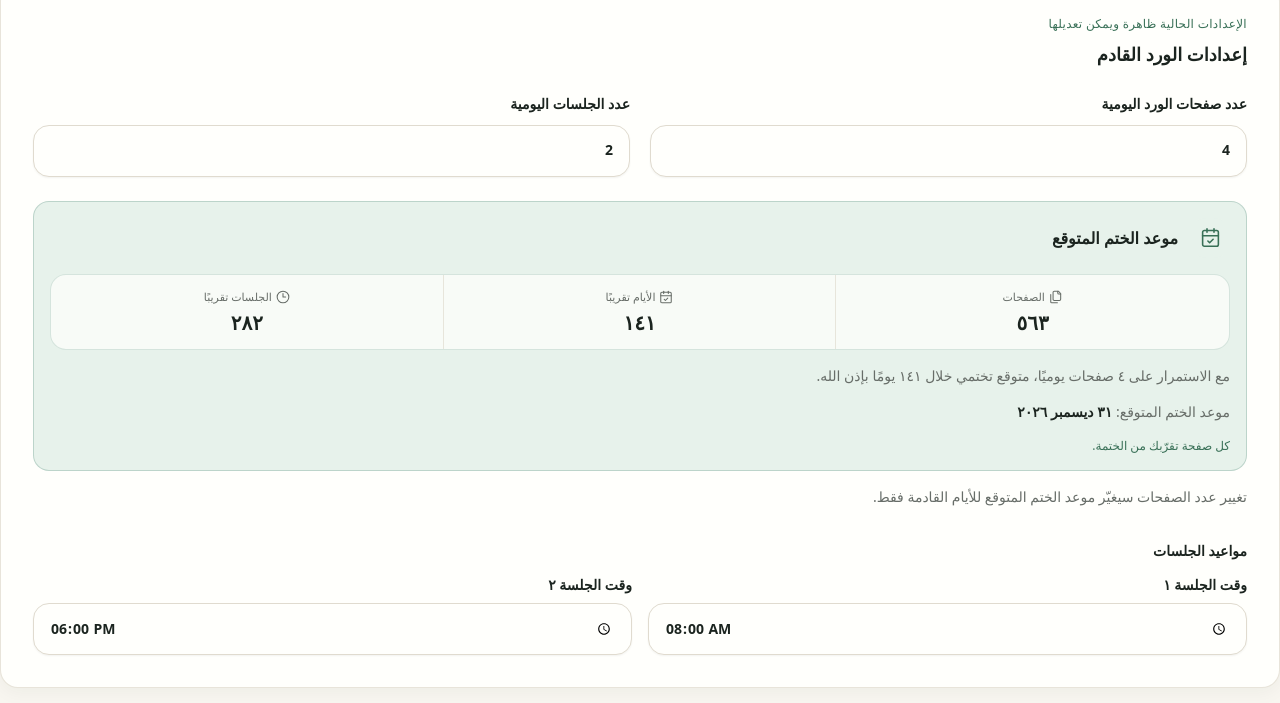
Scenario: PlanSettingsForm › shows a duplicate-time error without silently sorting values
Replace the text in the time field labelled "وقت الجلسة ٢" with "08:00" at (332, 629), box [33,603,632,655]
(page scrolled)
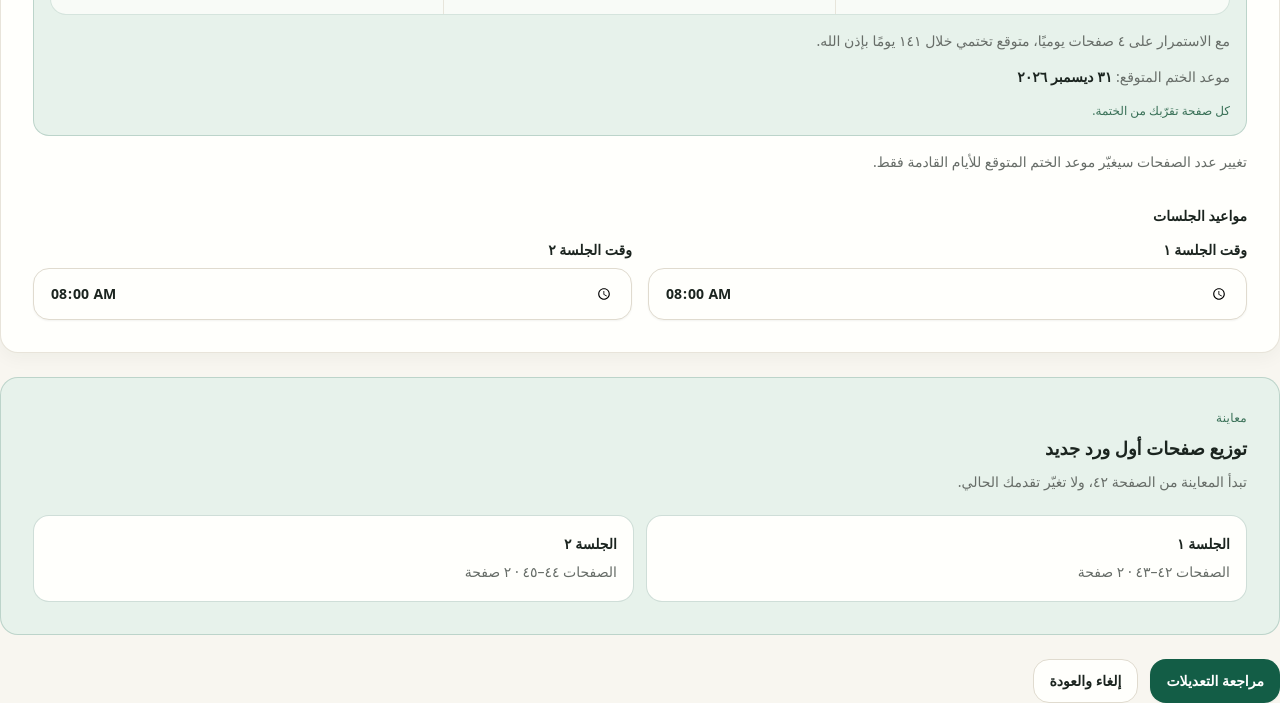
Click the button "مراجعة التعديلات" at (1215, 680), box [1150,658,1279,702]
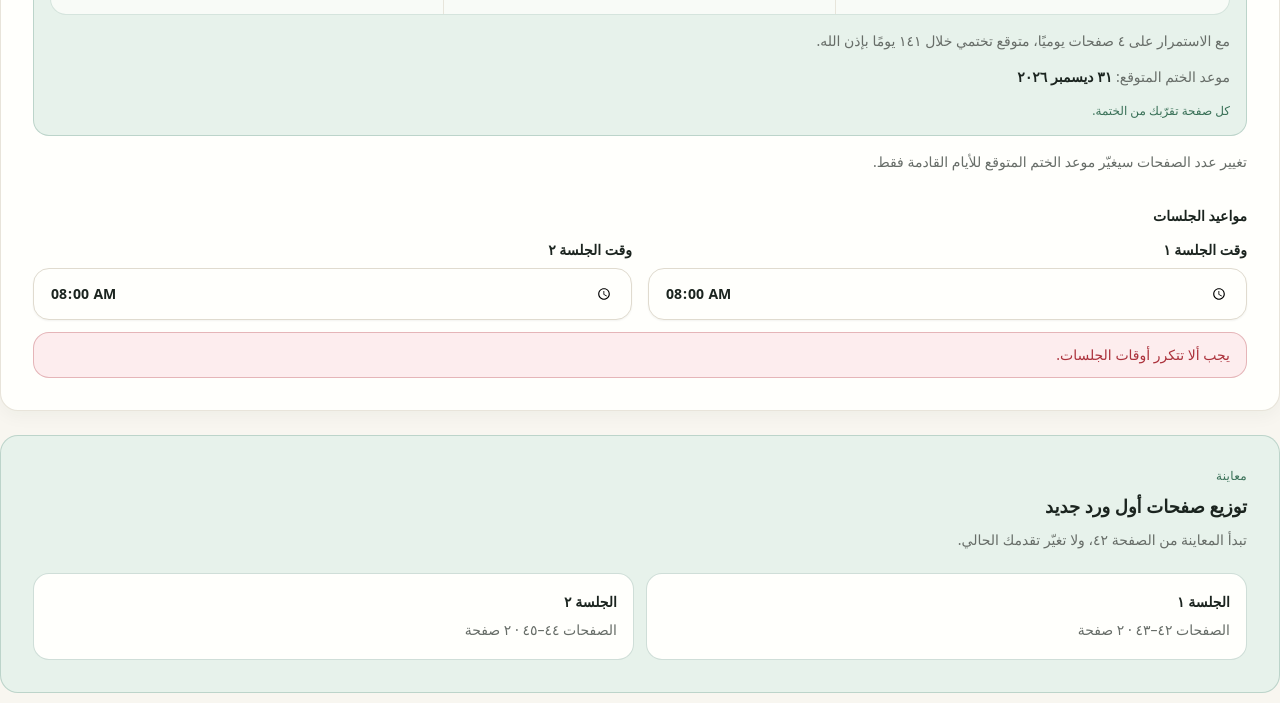
Expected: the time field labelled "وقت الجلسة ١" holds "08:00", [648,268,1247,320]
Result: the message reads "يجب ألا تتكرر أوقات الجلسات." at [1056,345,1230,364]
